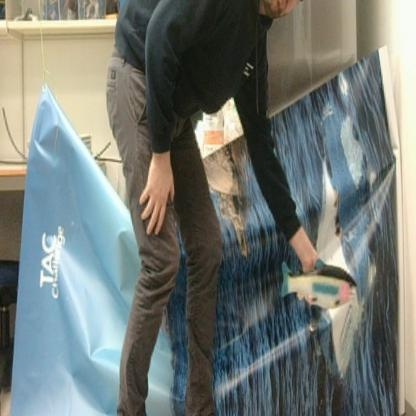rubberfish: (280, 258, 358, 310)
